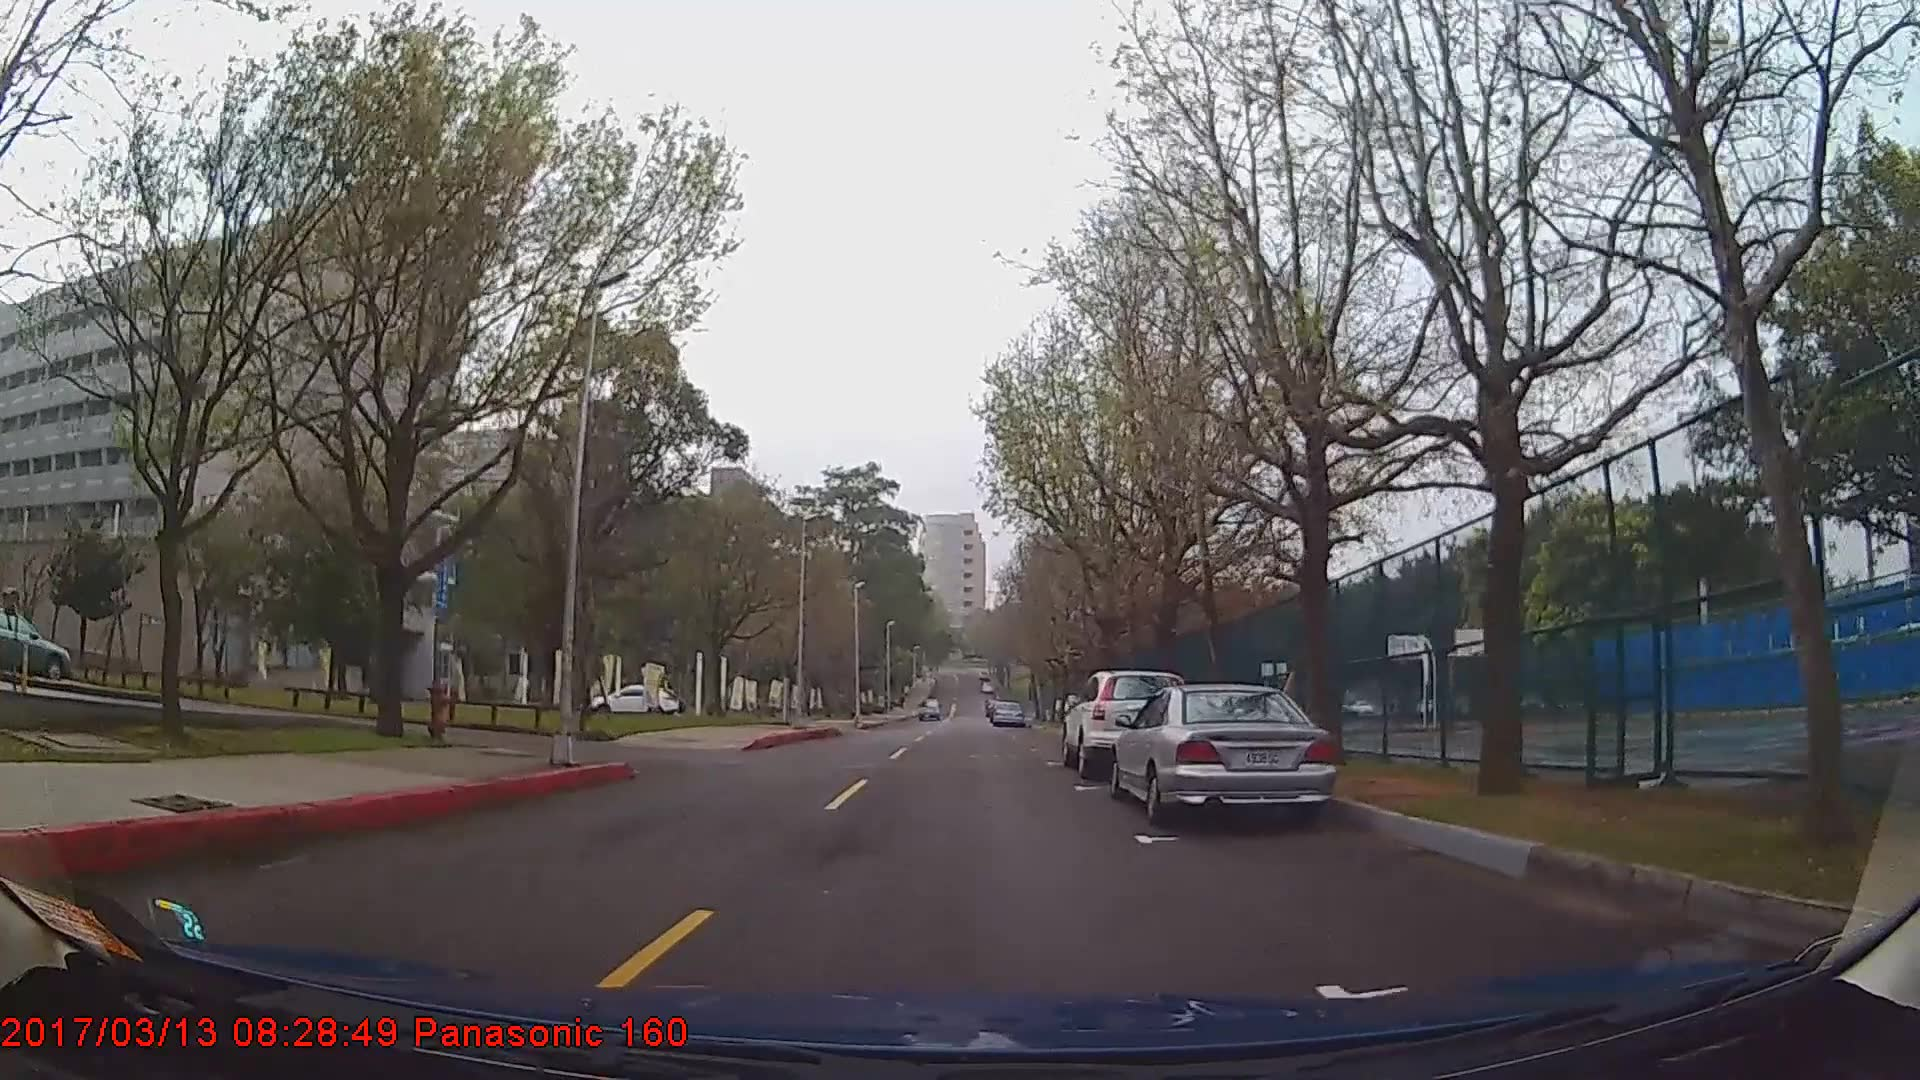vehicle: (1109, 683, 1336, 825), (1062, 669, 1187, 777), (0, 604, 69, 684), (589, 682, 680, 713), (989, 698, 1023, 724)
